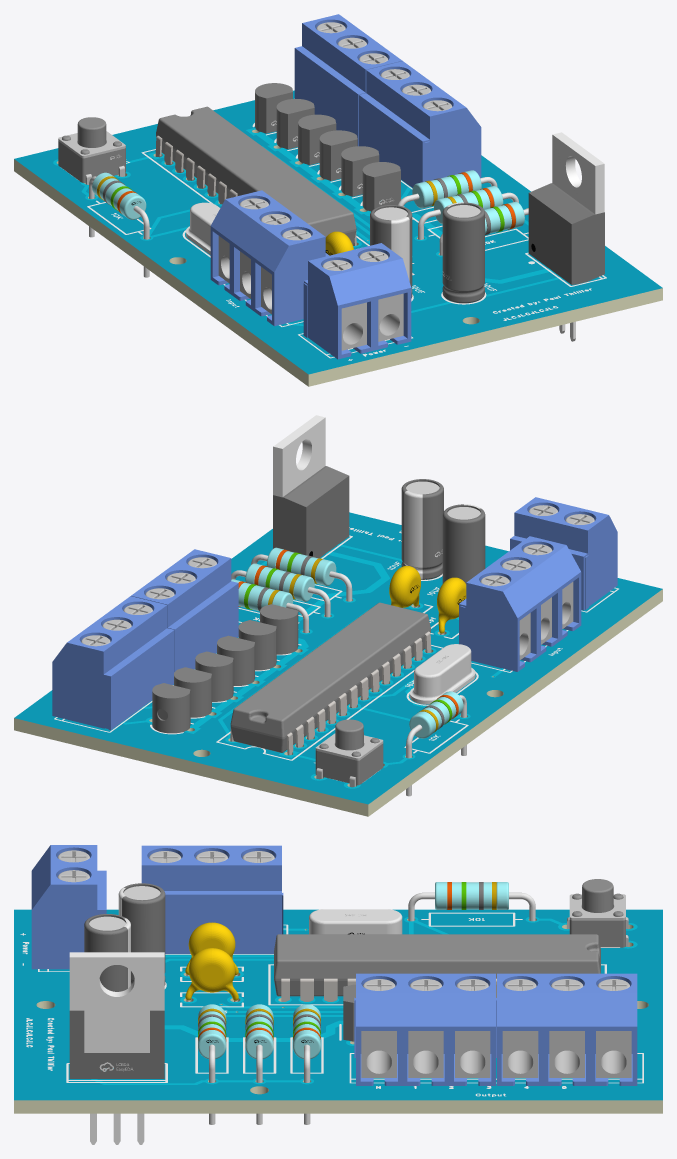
The model's file is bmw-k100-gear-position-converter-pcb.gltf.
The picture shows the model from 3 angles, top to bottom: view 1: azimuth 30°, elevation 25°; view 2: azimuth 150°, elevation 25°; view 3: azimuth 270°, elevation 25°; orthographic projection. The views are drawn at different scales.
Visible parts, largest first — view 1: Node12, Node16, Node11, Node5, Node15, Node8, Node13, Node2, Node20, Node17, Node19, Node4 (+3 smaller); view 2: Node12, Node16, Node11, Node5, Node15, Node8, Node2, Node20, Node13, Node19, Node17, Node4 (+4 smaller); view 3: Node16, Node12, Node11, Node13, Node2, Node15, Node5, Node20, Node19, Node25, Node17, Node4 (+6 smaller).
Part boxes in pixels (x1=…): Node12: x1=210, y1=14, x2=481, y2=359; Node16: x1=14, y1=90, x2=662, y2=374; Node11: x1=58, y1=106, x2=356, y2=244; Node5: x1=370, y1=183, x2=604, y2=303; Node15: x1=14, y1=129, x2=662, y2=386; Node8: x1=255, y1=83, x2=400, y2=211; Node13: x1=218, y1=22, x2=452, y2=350; Node2: x1=63, y1=98, x2=606, y2=360; Node20: x1=92, y1=170, x2=524, y2=233; Node17: x1=53, y1=128, x2=561, y2=326; Node19: x1=89, y1=176, x2=528, y2=277; Node4: x1=155, y1=135, x2=356, y2=245; Node12: x1=52, y1=497, x2=617, y2=730; Node16: x1=14, y1=512, x2=662, y2=804; Node11: x1=230, y1=602, x2=430, y2=785; Node5: x1=273, y1=466, x2=485, y2=583; Node15: x1=14, y1=589, x2=662, y2=816; Node8: x1=152, y1=604, x2=298, y2=733; Node2: x1=54, y1=415, x2=618, y2=781; Node20: x1=231, y1=547, x2=463, y2=738; Node13: x1=81, y1=505, x2=594, y2=660; Node19: x1=231, y1=554, x2=475, y2=796; Node17: x1=121, y1=544, x2=504, y2=788; Node4: x1=230, y1=631, x2=431, y2=755; Node16: x1=14, y1=909, x2=662, y2=1100; Node12: x1=31, y1=845, x2=637, y2=1085; Node11: x1=274, y1=879, x2=625, y2=996; Node13: x1=57, y1=850, x2=631, y2=1077; Node2: x1=20, y1=912, x2=643, y2=1144; Node15: x1=14, y1=918, x2=662, y2=1113; Node5: x1=69, y1=883, x2=165, y2=1078; Node20: x1=198, y1=882, x2=508, y2=1059; Node19: x1=186, y1=892, x2=535, y2=1124; Node25: x1=185, y1=922, x2=238, y2=1000; Node17: x1=91, y1=917, x2=637, y2=1084; Node4: x1=281, y1=978, x2=496, y2=1001.
Size of the model in its own units: 48.23 by 23.4 by 69.44.
